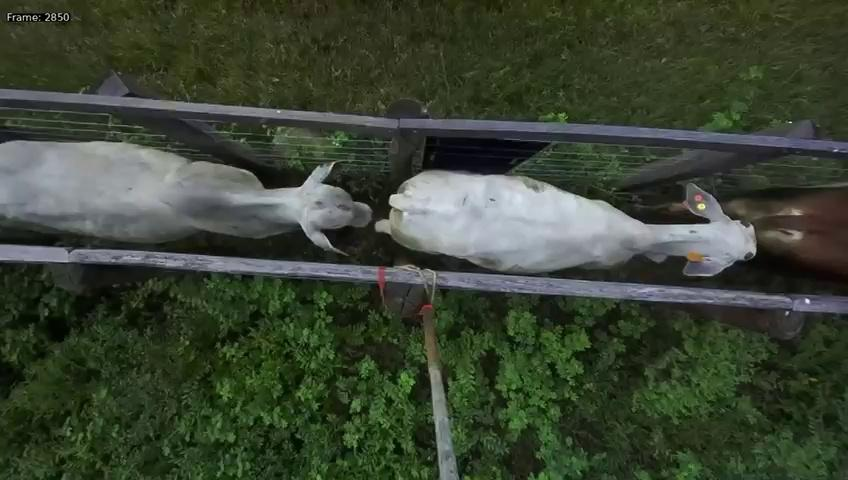cattle: (383, 156, 762, 283), (1, 135, 375, 255)
